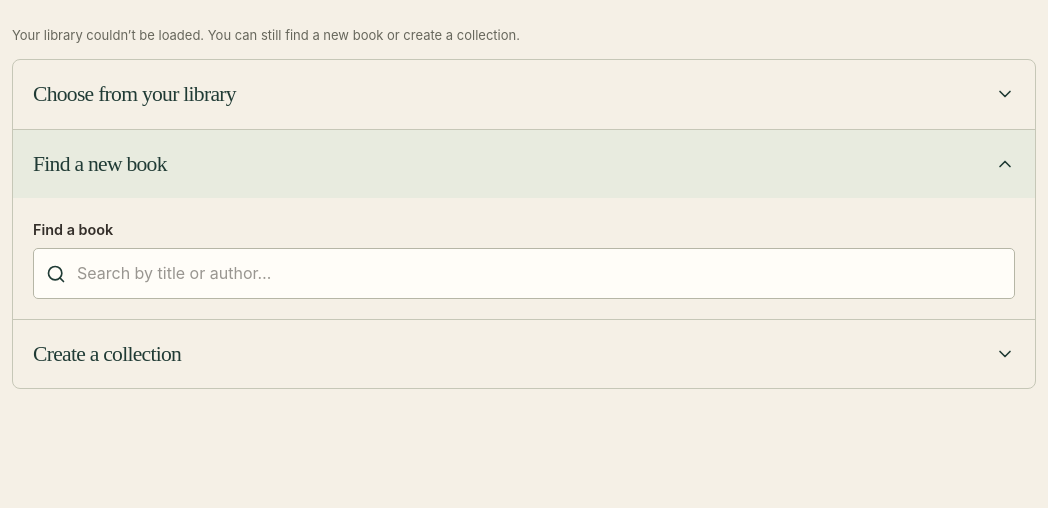
Test: can retry a failed library request without blocking discovery
Click the button "Choose from your library": {"x": 134, "y": 94} top-left (13, 60), bottom-right (1035, 128)
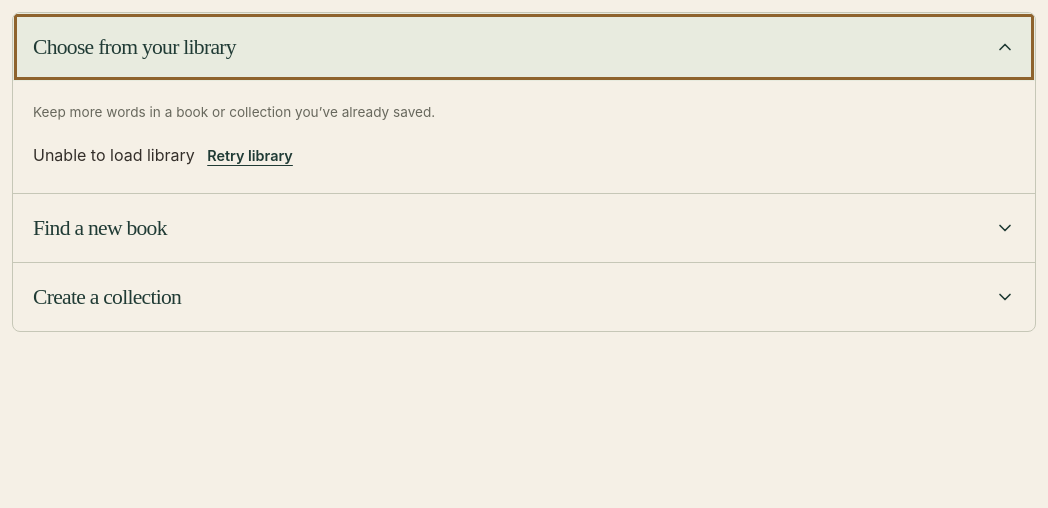
Expected: the message shows "Unable to load library", top-left (33, 146), bottom-right (195, 166)
Expected: the dropdown is gone
Click the button "Retry library": {"x": 250, "y": 156} top-left (199, 140), bottom-right (301, 173)
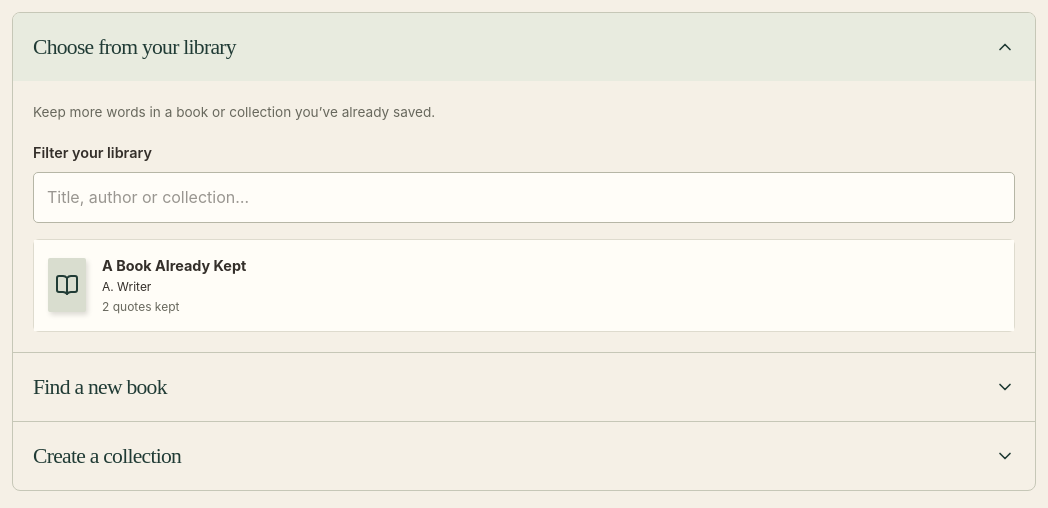
Expected: the button named "Choose A Book Already Kept" is shown, top-left (34, 240), bottom-right (1014, 331)
